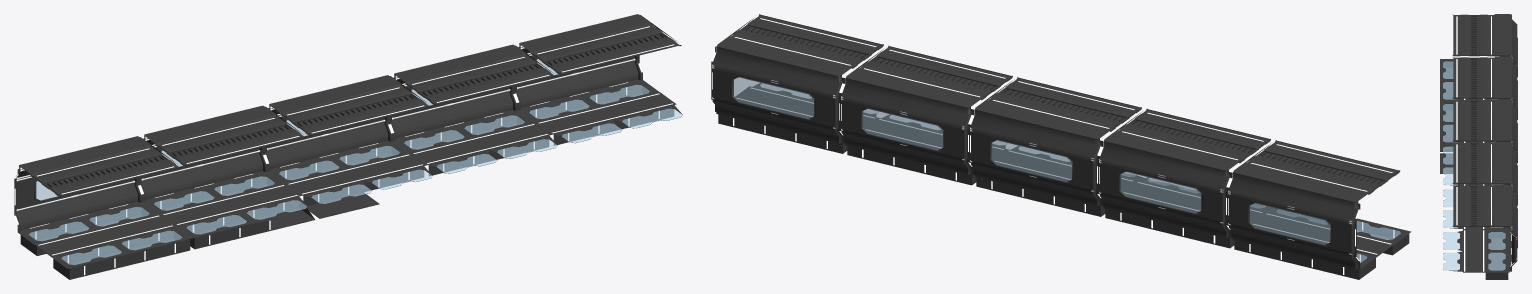
3 renders of one model, left to right at view 1: azimuth 30°, elevation 25°; view 2: azimuth 150°, elevation 25°; view 3: azimuth 270°, elevation 25°, orthographic. The views are drawn at different scales.
Visible parts, largest first — view 1: modulo; view 2: modulo; view 3: modulo.
Boxes of the visible parts, x1,y1,x2,y2 form: modulo: [14, 14, 682, 279]; modulo: [711, 14, 1411, 279]; modulo: [1440, 14, 1517, 279].
Size of the model in its own units: 40 by 4.71 by 6.15.
Materials: 4 (4 with a texture image).
